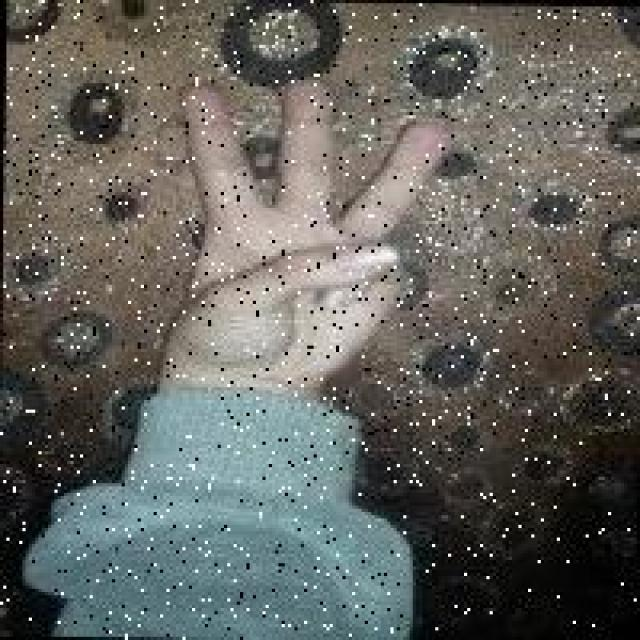W: (149, 65, 459, 382)
